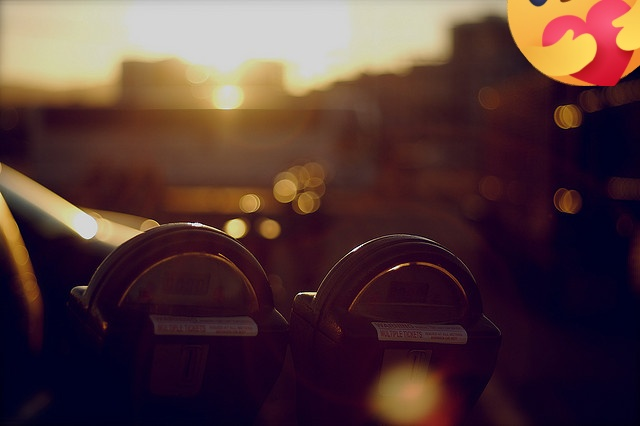care: (507, 0, 640, 86)
